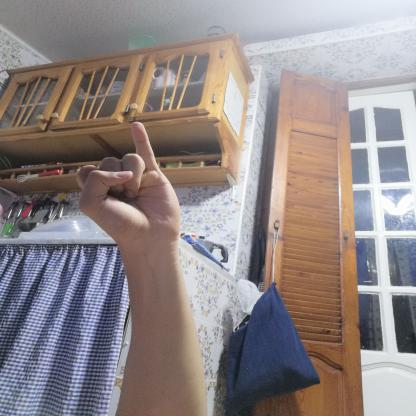MEEM: (59, 115, 194, 251)
